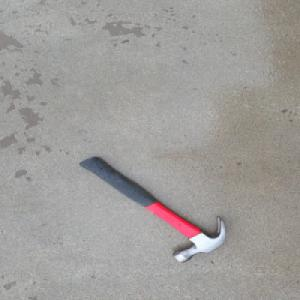Hammer: (77, 155, 228, 263)
